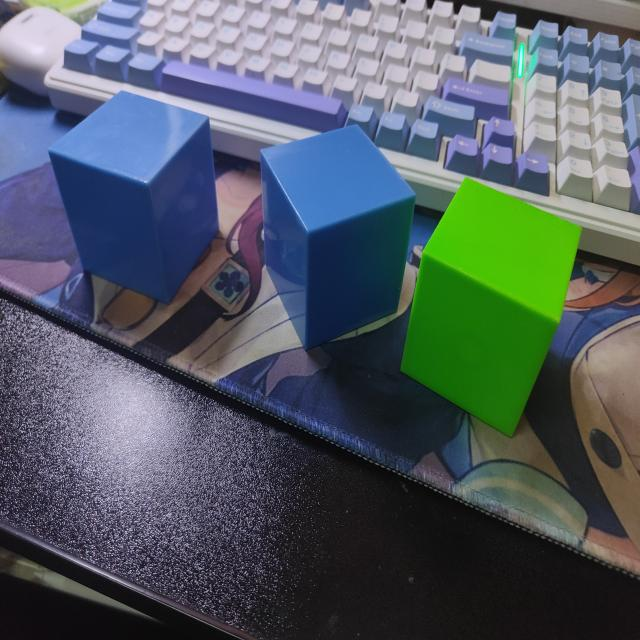blue: (45, 92, 222, 307), (262, 122, 416, 350)
green: (400, 177, 586, 441)
